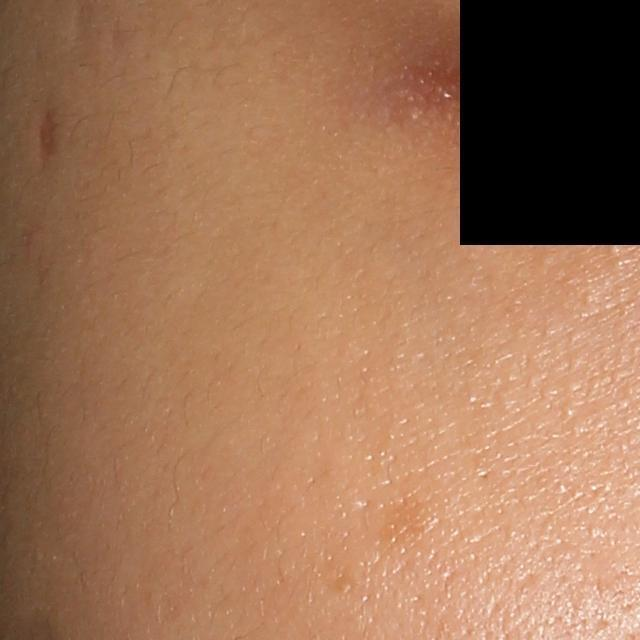atrophic_scar: (37, 102, 57, 174)
melasma: (369, 492, 435, 562)
